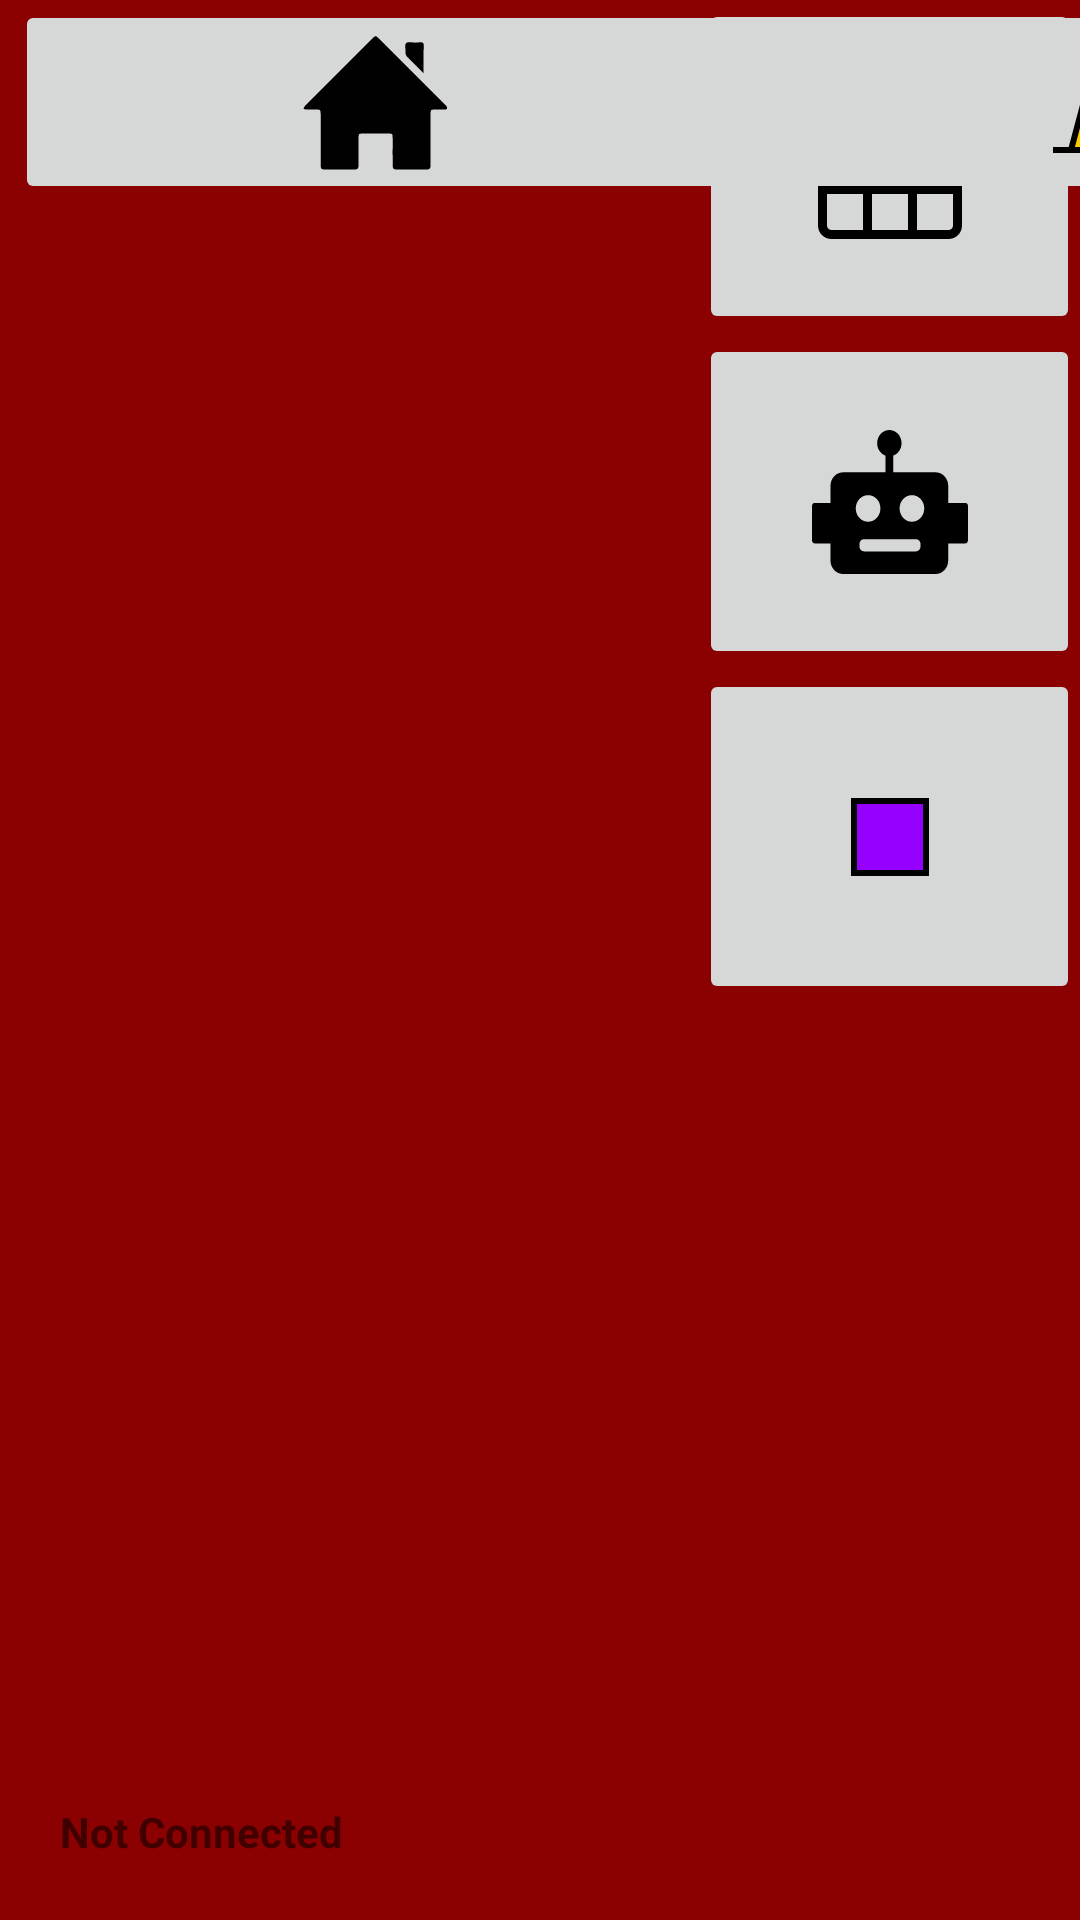

Where icons sit on this 1080x1920 app screen, as (x1, y1, x2, y2):
robot: (711, 352, 1068, 651)
